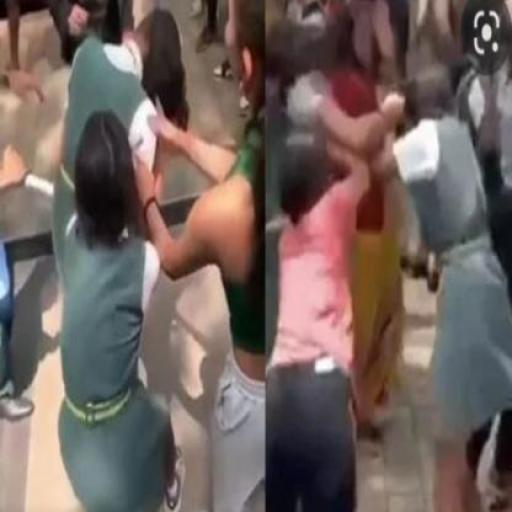Fighting: (0, 0, 268, 512), (266, 5, 512, 512)
